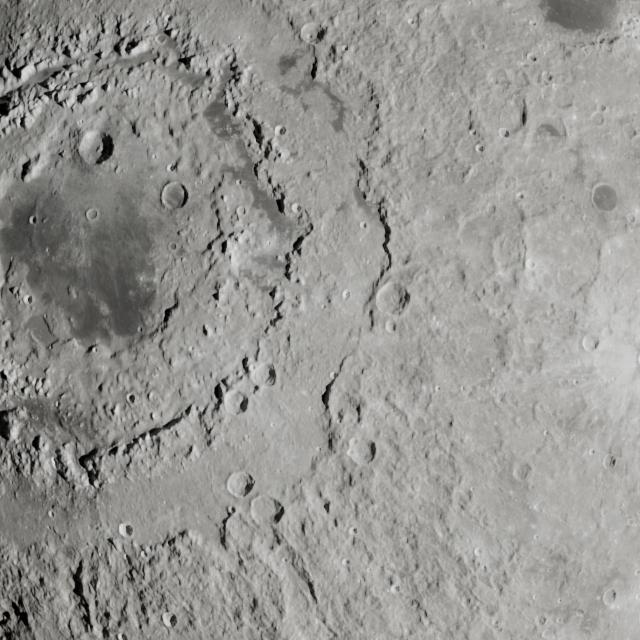crater: (76, 130, 118, 165), (249, 495, 284, 524), (162, 178, 189, 214), (300, 20, 334, 48), (226, 471, 255, 500), (157, 610, 181, 628), (83, 206, 104, 223), (121, 520, 137, 541), (25, 213, 43, 227)
